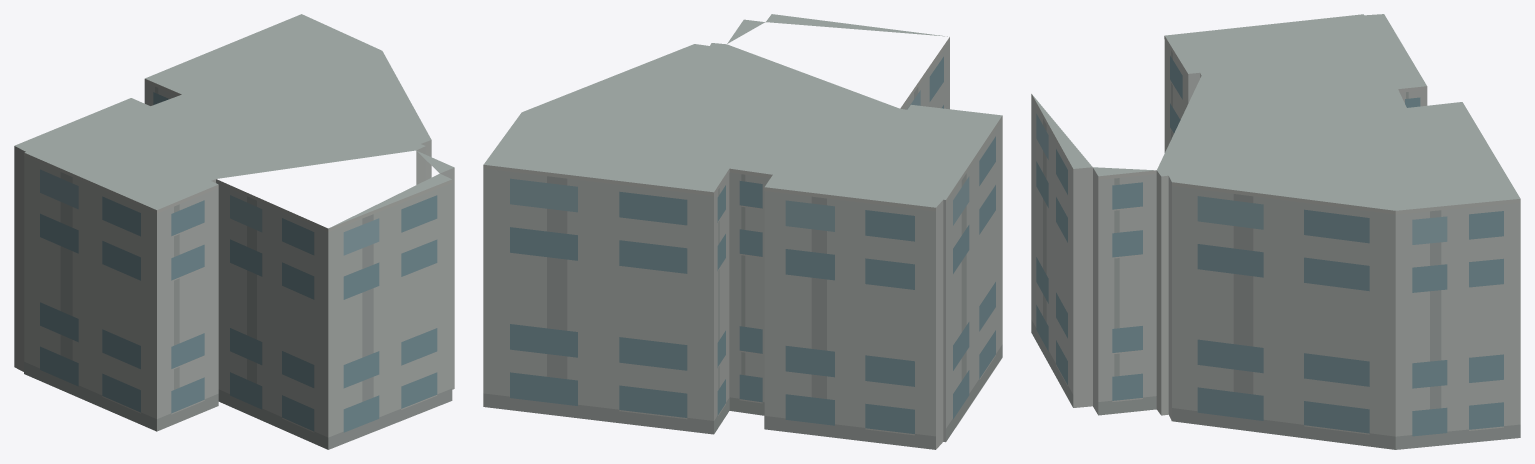
Rendered from survey-upis-32662434.glb.
The picture shows the model from 3 angles, left to right: view 1: azimuth 30°, elevation 25°; view 2: azimuth 150°, elevation 25°; view 3: azimuth 270°, elevation 25°; orthographic projection. The views are drawn at different scales.
Visible parts, largest first — view 1: survey-upis-32662434.tmp; view 2: survey-upis-32662434.tmp; view 3: survey-upis-32662434.tmp.
Part boxes in pixels (<box>): survey-upis-32662434.tmp: <box>14,14,454,449</box>; survey-upis-32662434.tmp: <box>483,14,1002,449</box>; survey-upis-32662434.tmp: <box>1031,14,1520,449</box>.
Bounding box in the file's own units: 26.92 × 15.25 × 28.29.
